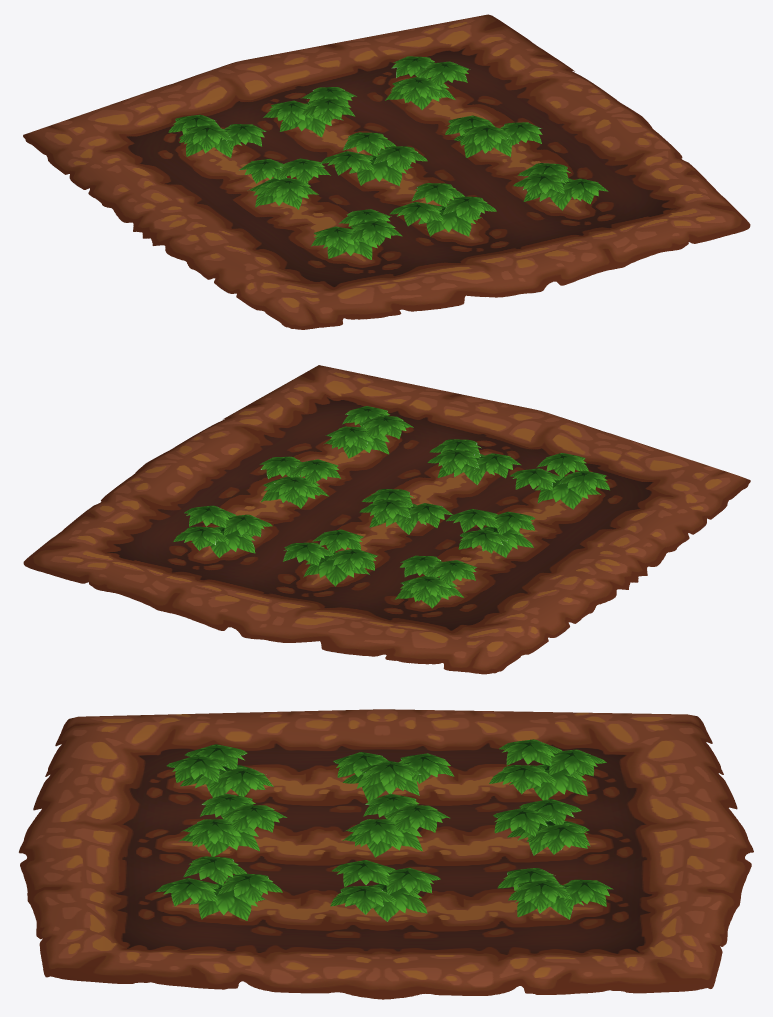
Rendered from Hydrangea_Field_Lv1.FBX.
3 renders of one model, top to bottom at view 1: azimuth 30°, elevation 25°; view 2: azimuth 150°, elevation 25°; view 3: azimuth 270°, elevation 25°, orthographic. The views are drawn at different scales.
Visible parts, largest first — view 1: Hydrangea_Field_Lv1; view 2: Hydrangea_Field_Lv1; view 3: Hydrangea_Field_Lv1.
Part boxes in pixels (x1,y1,x2,y2): Hydrangea_Field_Lv1: (23,14,750,329); Hydrangea_Field_Lv1: (23,365,750,674); Hydrangea_Field_Lv1: (18,709,753,999).
Size of the model in its own units: 274 by 18.57 by 296.
